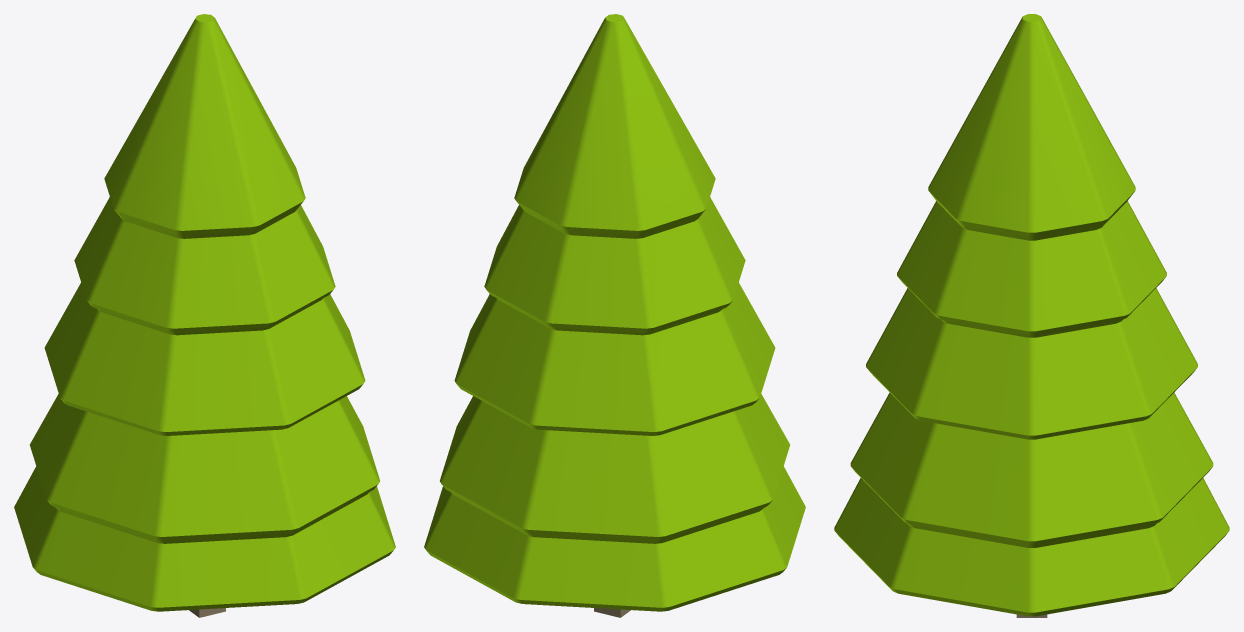
The model's file is pine_3_bevel.fbx.
The picture shows the model from 3 angles, left to right: view 1: azimuth 30°, elevation 25°; view 2: azimuth 150°, elevation 25°; view 3: azimuth 270°, elevation 25°; orthographic projection.
Visible parts, largest first — view 1: pine_3_bevel; view 2: pine_3_bevel; view 3: pine_3_bevel.
Boxes of the visible parts, x1,y1,x2,y2 form: pine_3_bevel: (14, 14, 395, 617); pine_3_bevel: (424, 14, 805, 617); pine_3_bevel: (834, 14, 1229, 617).
Size of the model in its own units: 156 by 258 by 156.
